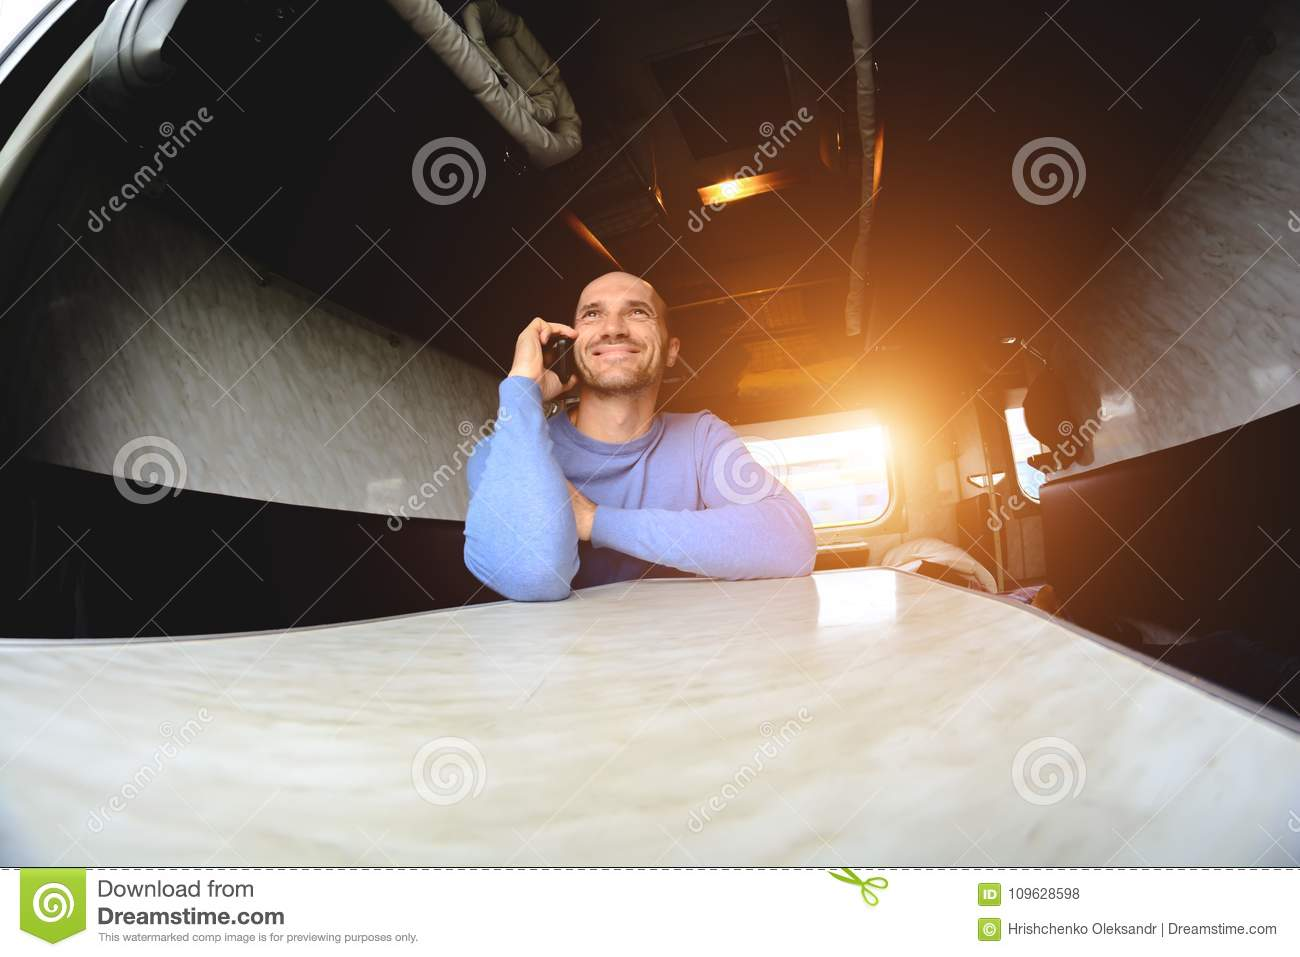phone: (548, 331, 576, 393)
talk: (509, 294, 659, 403)
